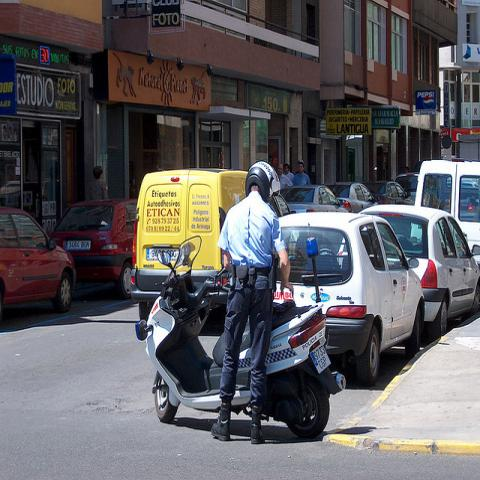car: (274, 200, 424, 386), (357, 203, 479, 349), (50, 196, 138, 299), (0, 207, 76, 313), (412, 159, 480, 269), (327, 179, 382, 214), (281, 186, 344, 212), (364, 178, 415, 206), (395, 172, 420, 197)
motorcycle: (137, 264, 342, 435)
